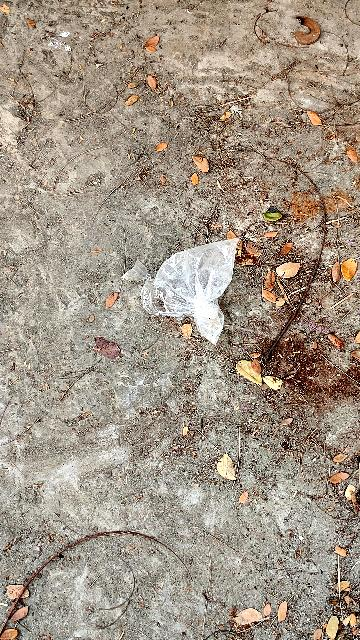polythene: (123, 235, 261, 347)
